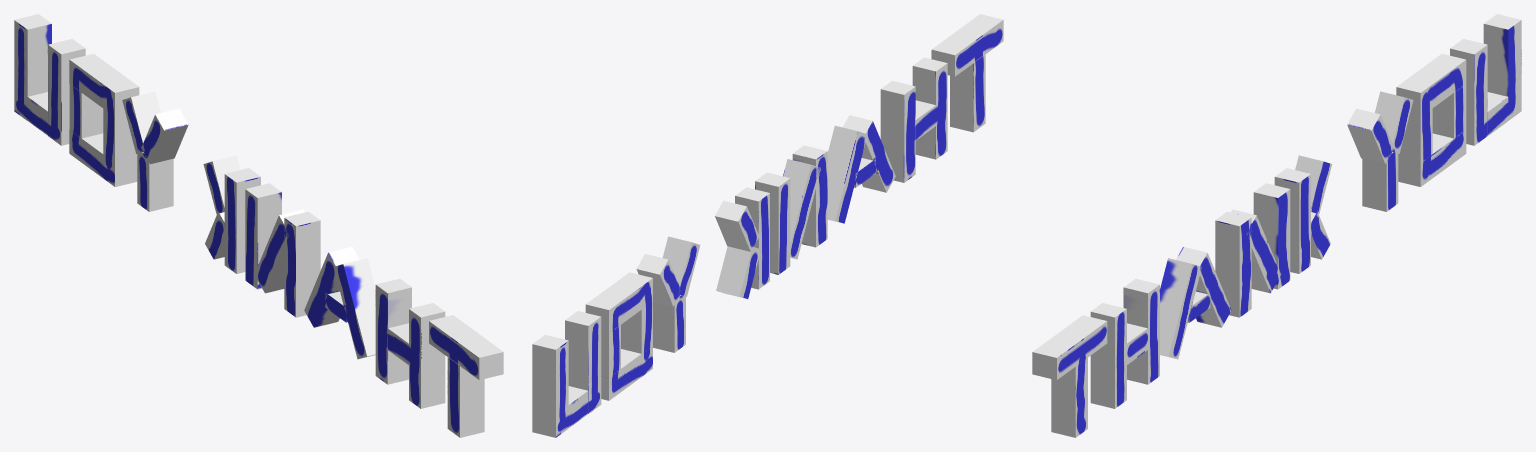
Rendered from Thanks.obj.
3 renders of one model, left to right at view 1: azimuth 30°, elevation 25°; view 2: azimuth 150°, elevation 25°; view 3: azimuth 330°, elevation 25°, orthographic. The views are drawn at different scales.
Visible parts, largest first — view 1: Cube.018; view 2: Cube.018; view 3: Cube.018.
Boxes of the visible parts, x1,y1,x2,y2 form: Cube.018: (14, 14, 503, 437); Cube.018: (532, 14, 1003, 437); Cube.018: (1032, 14, 1521, 437).
Size of the model in its own units: 1.47 by 5.85 by 48.23.
1 material, 1 textured.
